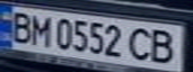0: (51, 16, 72, 51)
2: (103, 21, 127, 59)
5: (69, 17, 90, 53), (87, 20, 106, 56)
B: (145, 26, 184, 65), (3, 9, 36, 44)
C: (124, 25, 157, 62)
M: (27, 12, 54, 47)
